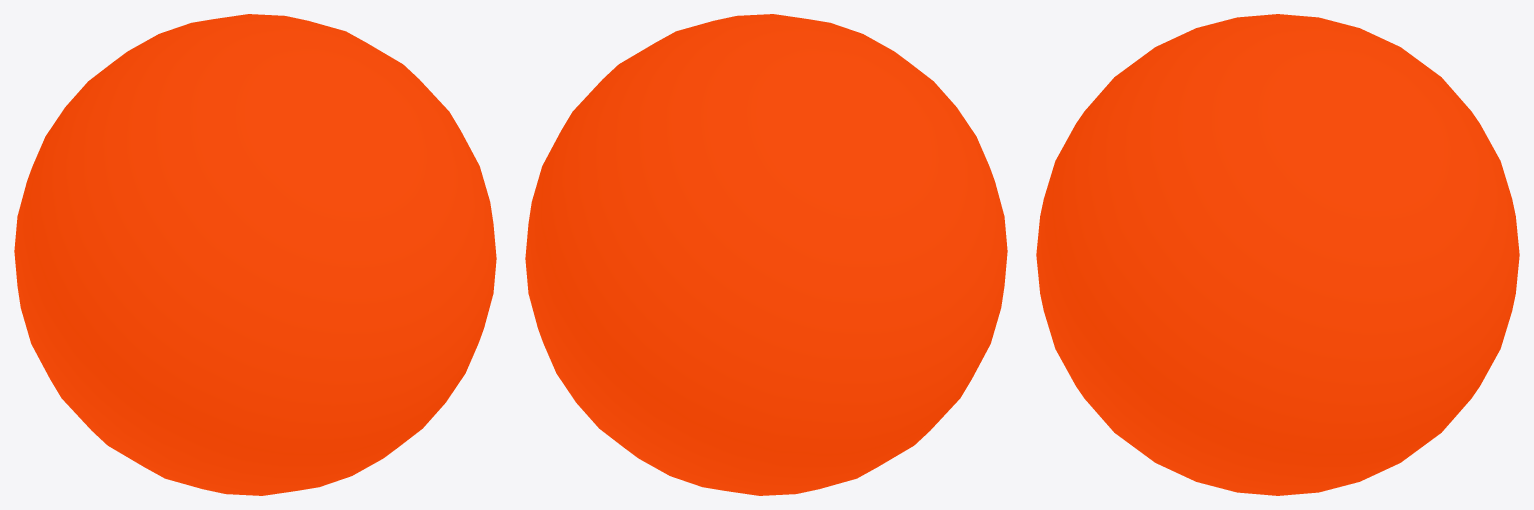
The picture shows the model from 3 angles, left to right: view 1: azimuth 30°, elevation 25°; view 2: azimuth 150°, elevation 25°; view 3: azimuth 270°, elevation 25°; orthographic projection.
Visible parts, largest first — view 1: Roundcube.002; view 2: Roundcube.002; view 3: Roundcube.002.
Boxes of the visible parts, bbox=[...] form: Roundcube.002: bbox=[14, 14, 496, 495]; Roundcube.002: bbox=[525, 14, 1007, 495]; Roundcube.002: bbox=[1036, 14, 1519, 495].
Size of the model in its own units: 2.29 by 2.29 by 2.29.
